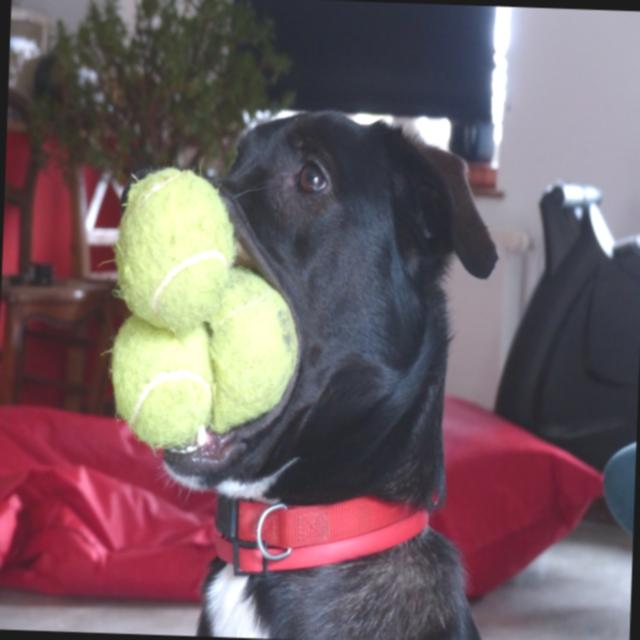Tennis ball: (108, 162, 238, 339), (200, 263, 302, 437), (103, 311, 217, 451)
